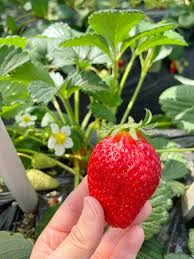ripe: (84, 129, 166, 233)
